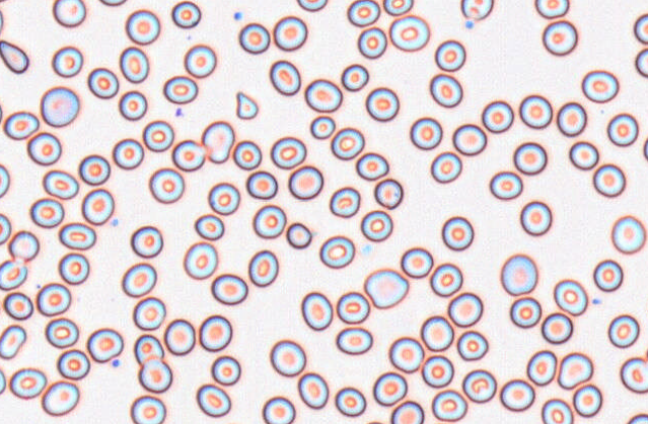PLT: (232, 10, 245, 23), (593, 297, 603, 307), (465, 19, 473, 28), (113, 359, 121, 368), (111, 219, 119, 226)
RBC: (363, 268, 408, 309), (39, 85, 79, 127), (500, 253, 537, 295), (388, 14, 430, 51), (610, 214, 646, 254), (269, 339, 306, 377), (40, 380, 79, 416), (541, 19, 578, 56), (557, 351, 593, 389), (388, 336, 424, 373), (183, 241, 218, 279), (447, 291, 483, 327), (148, 167, 184, 203), (287, 164, 323, 200), (86, 327, 123, 362), (581, 69, 619, 103), (304, 78, 342, 112), (300, 291, 333, 330), (272, 15, 307, 51), (125, 9, 160, 45), (553, 278, 587, 315), (198, 314, 232, 351), (137, 358, 172, 393), (372, 371, 407, 406), (461, 368, 496, 403), (121, 262, 156, 297), (195, 383, 231, 417), (420, 315, 454, 351), (319, 234, 355, 268), (81, 188, 114, 225), (210, 273, 248, 305), (26, 131, 61, 165), (365, 86, 399, 121), (518, 94, 552, 129), (36, 282, 71, 316), (431, 389, 467, 422), (499, 378, 535, 411), (270, 136, 306, 169), (519, 200, 552, 236), (9, 367, 46, 399), (163, 318, 195, 355), (297, 371, 328, 409), (247, 249, 278, 287), (330, 126, 364, 160), (592, 163, 626, 197), (513, 141, 547, 175), (252, 204, 286, 238), (429, 262, 462, 297), (183, 43, 216, 78), (269, 59, 301, 95), (441, 215, 473, 251), (526, 349, 557, 386), (421, 354, 454, 388), (132, 296, 165, 330), (336, 291, 370, 324), (207, 181, 240, 215), (429, 73, 462, 107), (409, 116, 442, 150), (452, 123, 487, 155), (119, 46, 149, 83), (58, 221, 96, 250), (360, 209, 393, 242), (130, 225, 163, 258), (171, 139, 205, 171), (56, 348, 90, 380), (607, 314, 639, 348), (606, 112, 638, 146), (481, 99, 513, 133), (556, 101, 587, 136), (29, 197, 64, 228), (3, 110, 39, 140), (42, 169, 78, 199), (619, 356, 648, 393), (129, 394, 166, 423), (335, 326, 372, 355), (400, 246, 433, 278), (142, 119, 174, 152), (592, 258, 623, 292), (44, 317, 78, 348), (162, 75, 198, 104), (509, 296, 541, 328), (87, 67, 119, 99), (541, 312, 573, 344), (51, 45, 83, 77), (112, 137, 144, 169), (430, 151, 462, 183), (238, 22, 270, 54), (58, 252, 89, 285), (572, 383, 602, 417), (489, 170, 523, 200), (133, 333, 164, 365), (8, 229, 39, 261), (334, 386, 366, 417), (456, 330, 488, 361), (78, 154, 110, 185), (434, 39, 465, 71), (0, 39, 29, 73), (355, 151, 389, 180), (329, 186, 360, 217), (373, 177, 403, 209), (357, 26, 387, 58), (245, 170, 278, 199), (261, 395, 295, 423), (210, 355, 241, 385), (232, 139, 262, 170), (568, 140, 599, 170), (52, 0, 86, 27), (0, 324, 26, 359), (2, 291, 33, 320), (347, 0, 380, 27), (118, 90, 147, 120), (0, 258, 27, 290), (171, 0, 201, 28), (540, 398, 573, 423), (340, 63, 369, 91), (194, 213, 224, 240), (389, 400, 424, 423), (285, 221, 312, 249), (460, 0, 493, 21), (534, 0, 569, 19), (309, 115, 335, 139), (382, 0, 413, 15), (633, 12, 647, 44), (634, 47, 647, 77), (0, 212, 11, 245), (0, 163, 10, 198), (296, 0, 327, 11), (625, 412, 647, 423), (98, 0, 127, 6), (0, 367, 6, 395), (642, 134, 648, 162), (363, 419, 386, 424), (0, 8, 4, 36), (645, 291, 648, 322), (0, 98, 3, 125)
Schistocyte: (200, 119, 237, 165), (233, 90, 259, 120)
